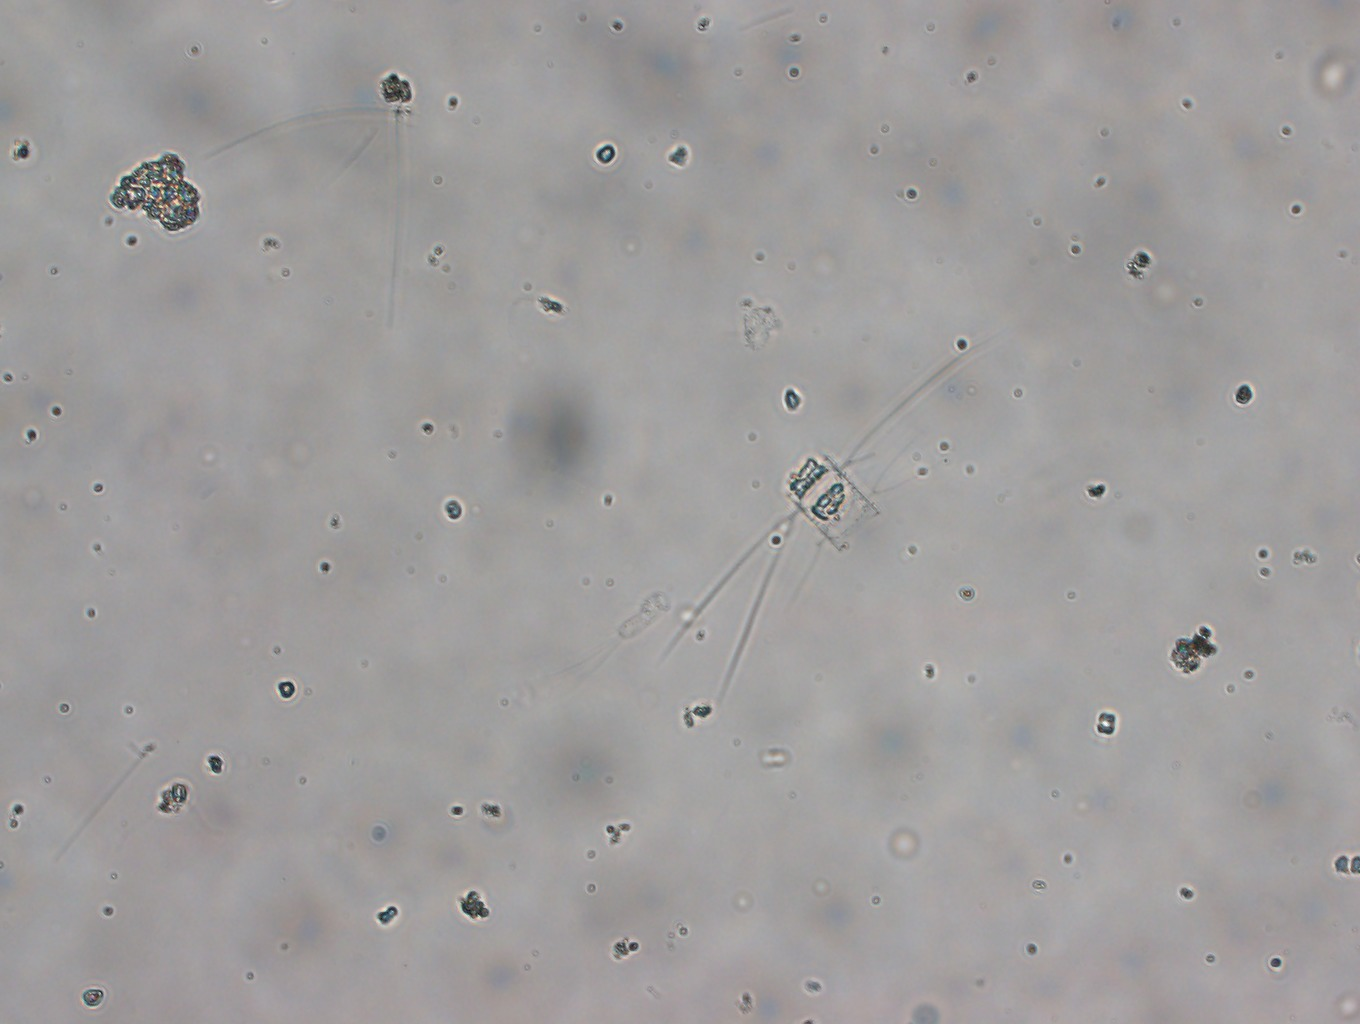chaetoceros: (659, 325, 1010, 699)
